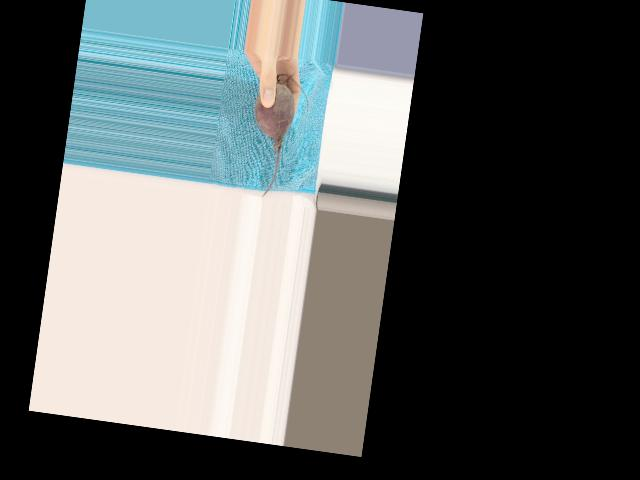beet: (242, 71, 311, 202)
